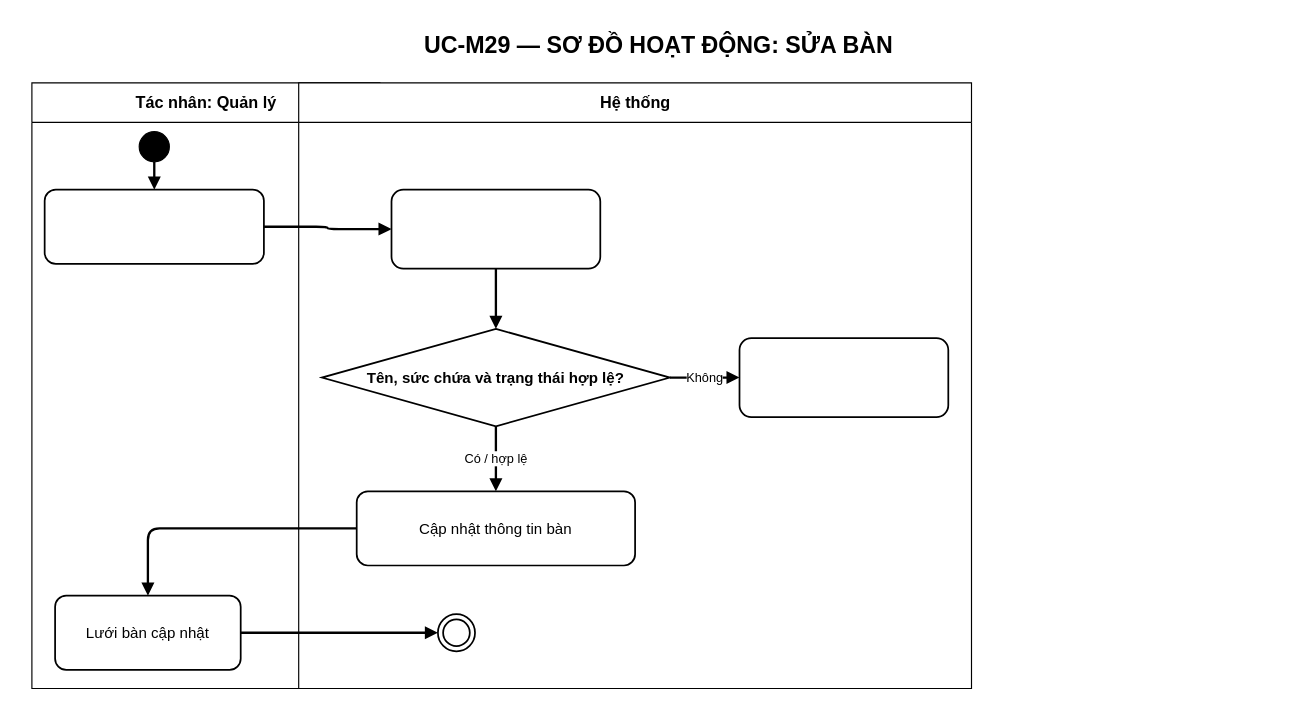
Image size: 1315x709. Some labels were removed from this diagram. The centre of each missing label's shape, as x and y in pixels:
Báo lỗi dữ liệu: point 843,377
Chọn bàn cần sửa và cập nhật thông tin: point 153,226
Kiểm tra dữ liệu đầu vào: point 495,228
